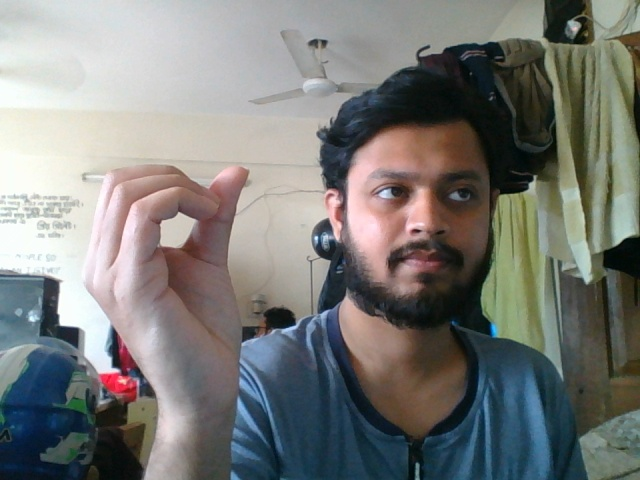ae: (73, 152, 257, 464)
